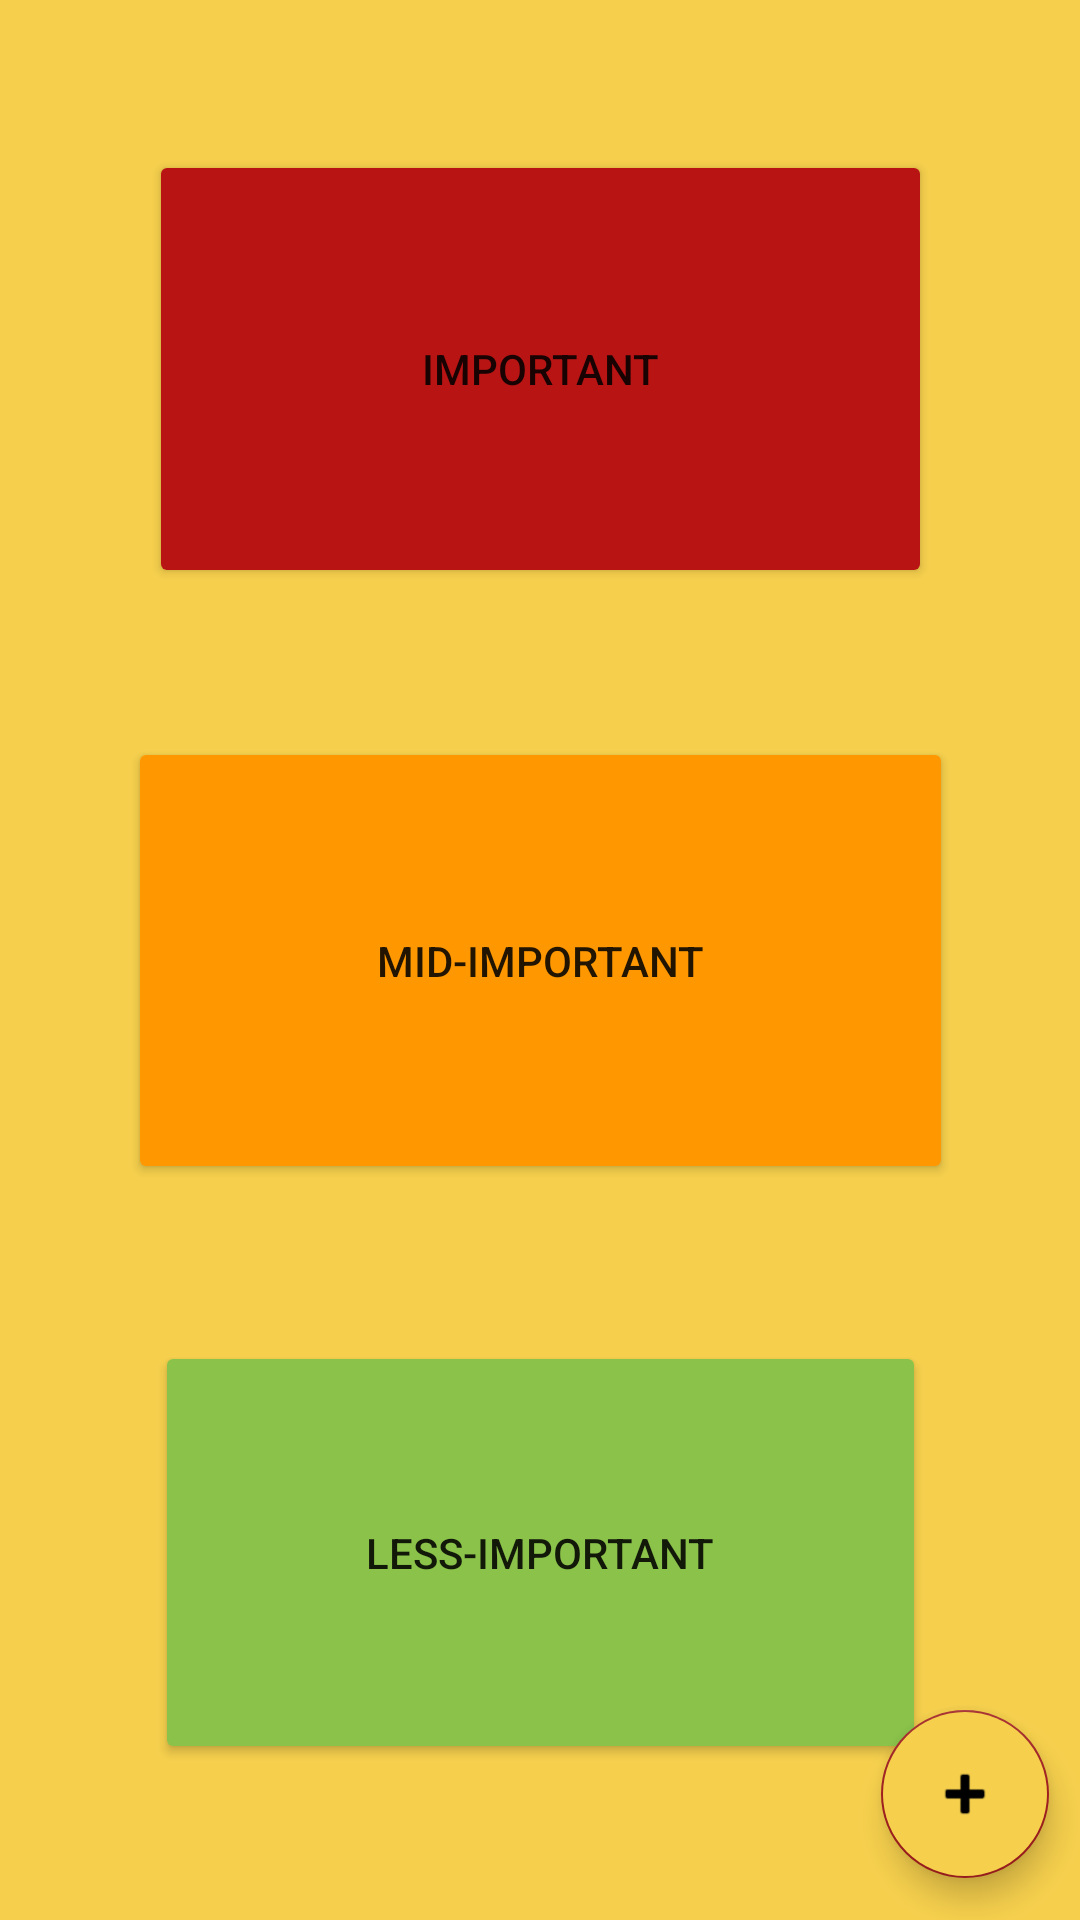

Where to tap for icons on this 1080w x 1920h app screen, as [x,y]:
add: [965,1794]
